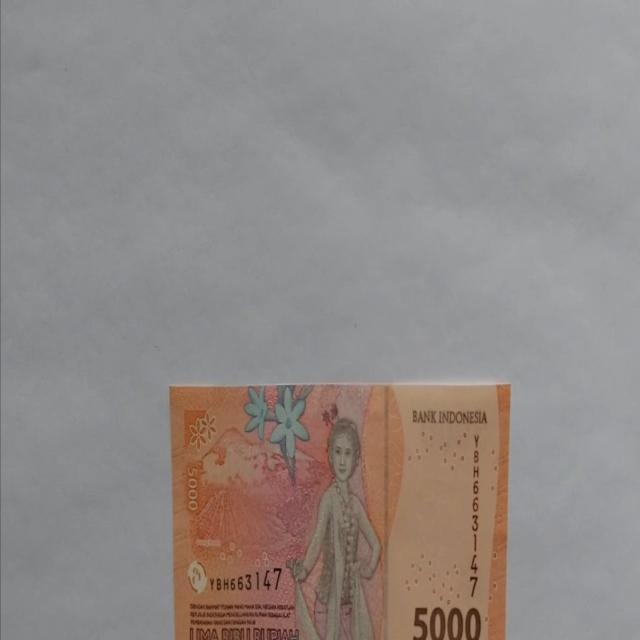lima ribu rupiah: (169, 382, 511, 638), (285, 416, 383, 638)
